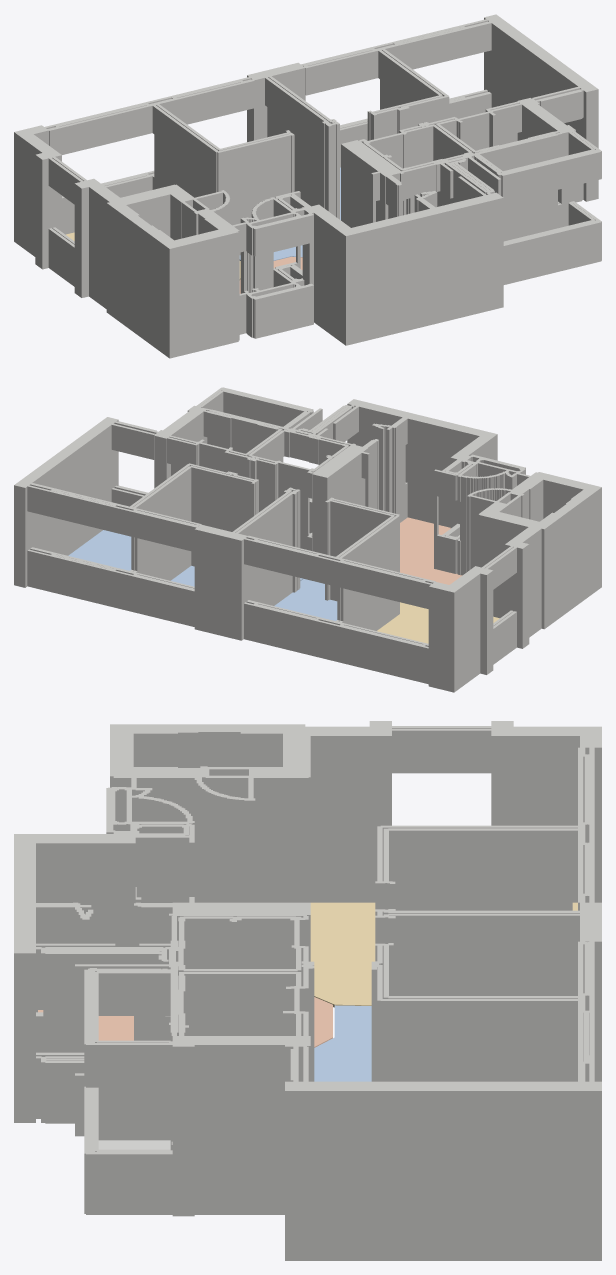
3 views of the same model, one above another, from view 1: azimuth 30°, elevation 25°; view 2: azimuth 150°, elevation 25°; view 3: azimuth 270°, elevation 25° (orthographic). The views are drawn at different scales.
Visible parts, largest first — view 1: walls; view 2: walls, room:kitchen:3, room:bedroom:4, room:bedroom:1, room:living:0; view 3: walls, room:living:0, room:bedroom:1, room:kitchen:3, room:ledge:8.
Part boxes in pixels (left/top/right/bottom): walls: left=14, top=14, right=601, bottom=358; walls: left=14, top=387, right=601, bottom=692; room:kitchen:3: left=400, top=517, right=462, bottom=584; room:bedroom:4: left=68, top=530, right=131, bottom=570; room:bedroom:1: left=274, top=579, right=337, bottom=620; room:living:0: left=377, top=602, right=499, bottom=643; walls: left=14, top=721, right=601, bottom=1260; room:living:0: left=310, top=902, right=577, bottom=1007; room:bedroom:1: left=314, top=1005, right=371, bottom=1081; room:kitchen:3: left=38, top=997, right=332, bottom=1047; room:ledge:8: left=98, top=1140, right=170, bottom=1149.
Bounding box in the file's own units: 13.09 × 2.8 × 8.79.
